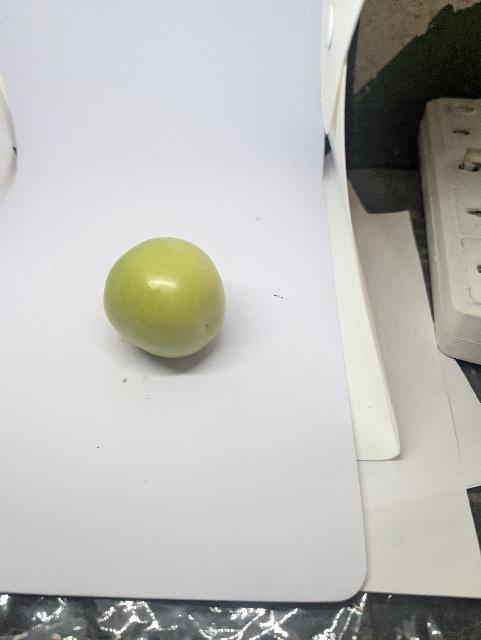green: (101, 235, 230, 361)
